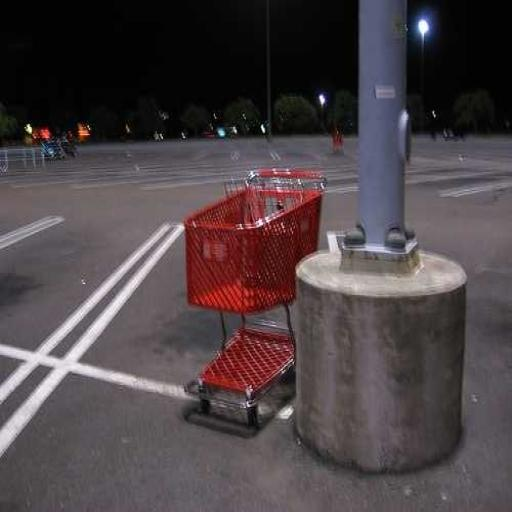shopping_cart: (182, 162, 333, 432)
